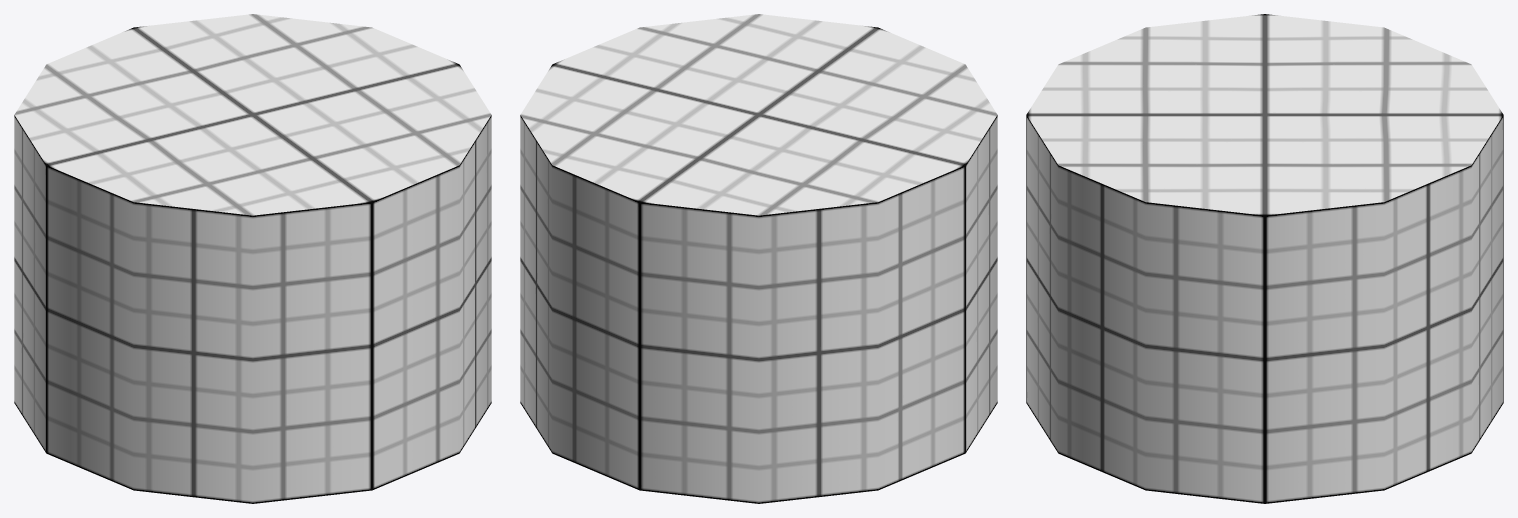
3 views of the same model, side by side, from view 1: azimuth 30°, elevation 25°; view 2: azimuth 150°, elevation 25°; view 3: azimuth 270°, elevation 25° (orthographic).
Parts seen in each view (by area): view 1: Object, Yplus; view 2: Object, Yplus; view 3: Object, Yplus.
Boxes of the visible parts, <box> form: Object: <box>14,115,491,503</box>; Yplus: <box>14,14,491,215</box>; Object: <box>520,115,997,503</box>; Yplus: <box>520,14,997,215</box>; Object: <box>1026,115,1503,503</box>; Yplus: <box>1026,14,1503,215</box>.
Bounding box in the file's own units: 75 × 50 × 75.
